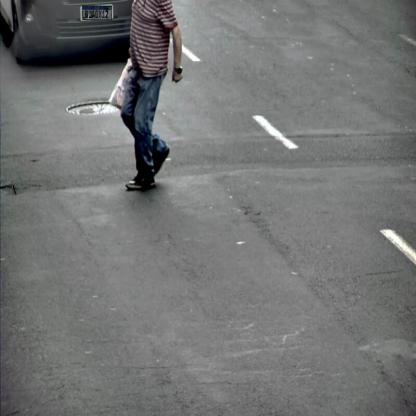PlacaM: (82, 6, 112, 20)
